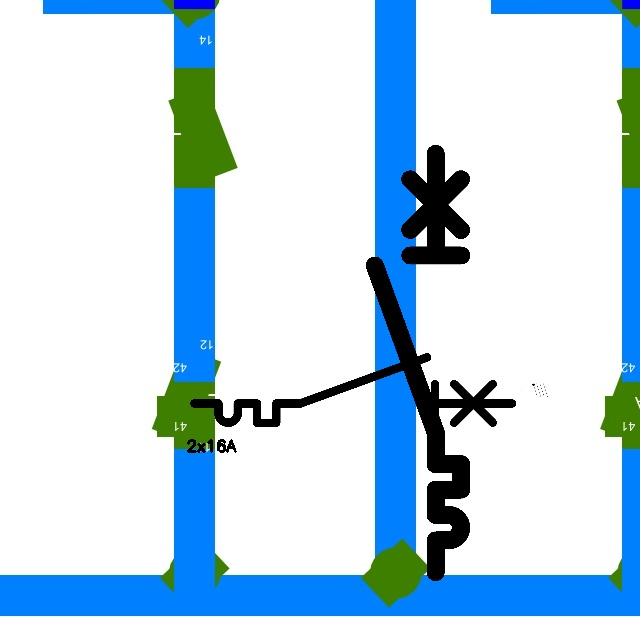interruptor_termomagnetico: (364, 143, 472, 583), (186, 349, 520, 431)
